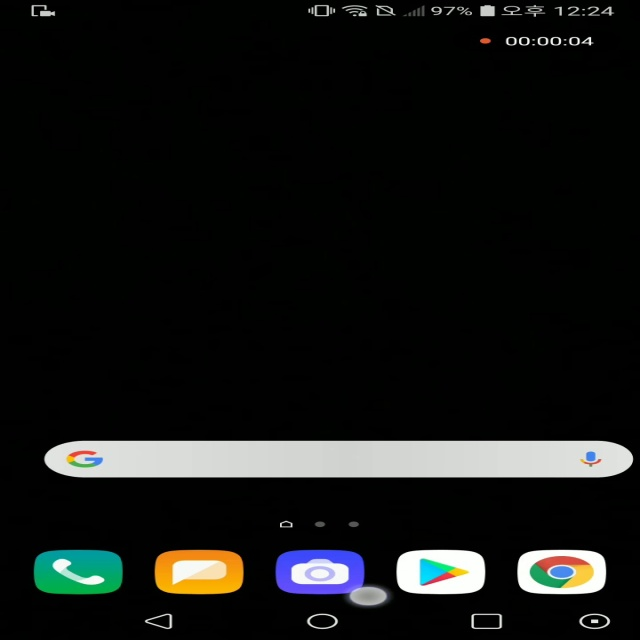Cursor: (348, 587, 392, 609)
